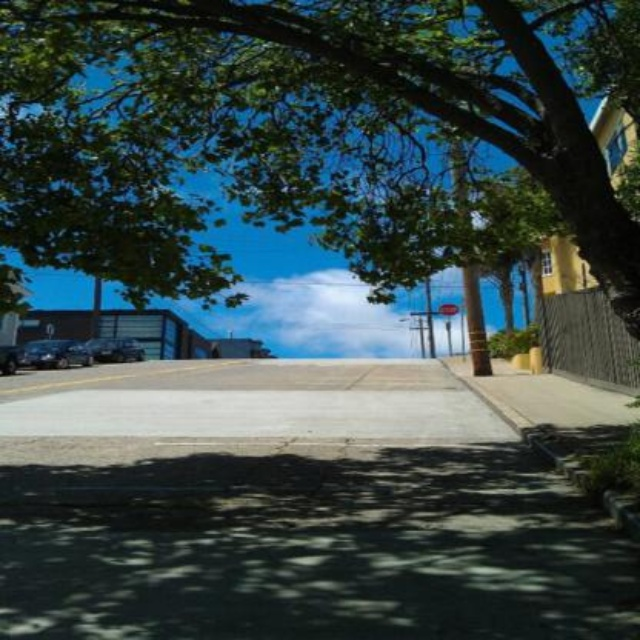Car: (19, 336, 95, 370), (91, 334, 152, 361)
